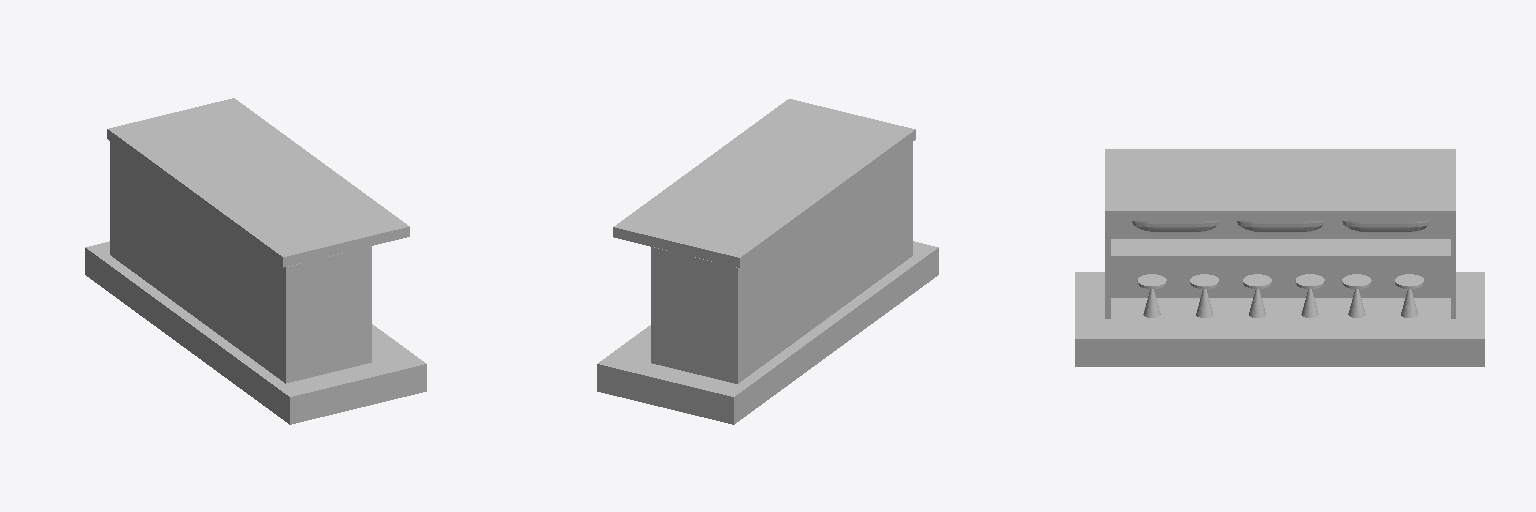
The model's file is pitwall.obj.
3 views of the same model, side by side, from view 1: azimuth 30°, elevation 25°; view 2: azimuth 150°, elevation 25°; view 3: azimuth 270°, elevation 25° (orthographic).
Parts seen in each view (by area): view 1: Kocka.004_Kocka.022, Kocka_Kocka.016, Kocka.006_Kocka, Kocka.001_Kocka.017; view 2: Kocka.004_Kocka.022, Kocka_Kocka.016, Kocka.006_Kocka, Kocka.003_Kocka.021; view 3: Kocka.006_Kocka, Kocka.004_Kocka.022, Kocka.005_Kocka.023, Kocka_Kocka.016, Mgömb_Mgömb.001, Kocka.001_Kocka.017.
Part boxes in pixels (x1,y1,x2,y2): Kocka.004_Kocka.022: (107,98,409,267); Kocka_Kocka.016: (110,141,290,383); Kocka.006_Kocka: (85,241,426,424); Kocka.001_Kocka.017: (291,246,371,381); Kocka.004_Kocka.022: (613,99,915,267); Kocka_Kocka.016: (732,142,912,383); Kocka.006_Kocka: (597,241,938,424); Kocka.003_Kocka.021: (651,247,731,382); Kocka.006_Kocka: (1075,272,1484,366); Kocka.004_Kocka.022: (1105,149,1455,220); Kocka.005_Kocka.023: (1111,239,1450,297); Kocka_Kocka.016: (1111,221,1450,238); Mgömb_Mgömb.001: (1132,221,1429,232); Kocka.001_Kocka.017: (1105,221,1110,318).
Size of the model in its own units: 27 by 29.13 by 70.